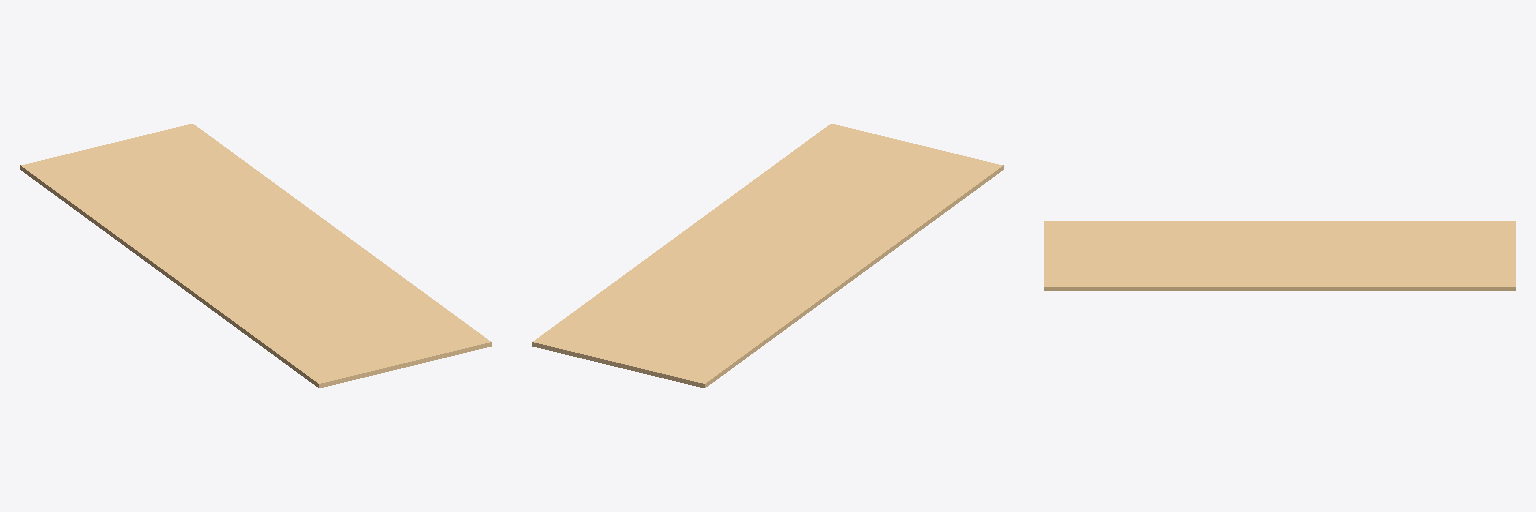
robot.urdf — box:
<?xml version="1.0" ?>
<robot name="box">
  <link name="baselink">
    <inertial>
      <origin rpy="0 0 0" xyz="0 0 0"/>
       <mass value=".0"/>
       <inertia ixx="0" ixy="0" ixz="0" iyy="0" iyz="0" izz="0"/>
    </inertial>

    <visual>
      <origin rpy="0 0 0" xyz="0.1 0 0"/>
      <geometry>
        <box size="0.2 0.6 0.005"/>
      </geometry>
      <material name="panda_white">
        <color rgba="1. 0.87 0.68 1."/>
      </material>
    </visual>

    <!-- <collision concave="yes">
      <origin rpy="0 0 0" xyz="0 0 0"/>
      <geometry>
        <box size="0.2 1.0 0.01"/>
      </geometry>
    </collision> -->

  </link>
</robot>

--- What the picture shows (computed from the rendered views, not written in the file) ---
Views: 3 orthographic renders of the robot side by side, from view 1: azimuth 30°, elevation 25°; view 2: azimuth 150°, elevation 25°; view 3: azimuth 270°, elevation 25°.
Model box with 1 links and 0 joints (none), rooted at baselink, posed every joint at zero.
Visible links, largest first — view 1: baselink; view 2: baselink; view 3: baselink.
Link boxes in pixels (x1,y1,x2,y2): baselink: (20,124,491,387); baselink: (532,124,1003,387); baselink: (1044,221,1515,290).
Size in the robot's own frame: 0.2 by 0.6 by 0.005 metres.
Geometry: primitives only (box / cylinder / sphere), no mesh files.